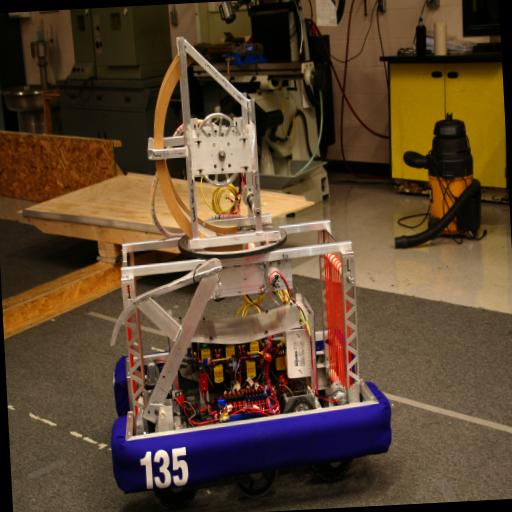robot: (88, 24, 394, 495)
